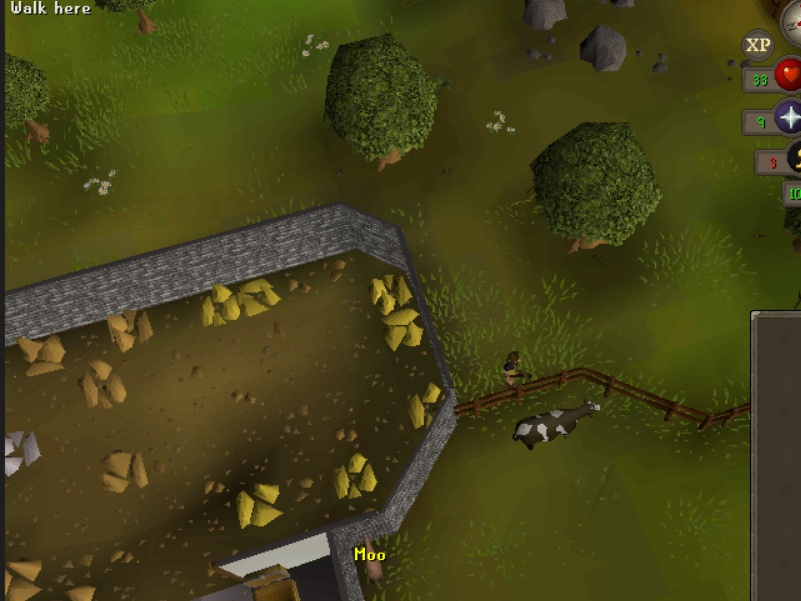clay: (103, 302, 160, 353), (95, 444, 152, 495), (75, 359, 132, 410), (15, 324, 72, 375), (1, 550, 57, 601)
gold: (192, 276, 243, 328), (378, 306, 429, 358), (364, 262, 415, 314), (235, 269, 286, 321), (233, 476, 284, 528), (327, 452, 378, 504), (401, 378, 452, 430)
silver: (1, 428, 45, 481)
